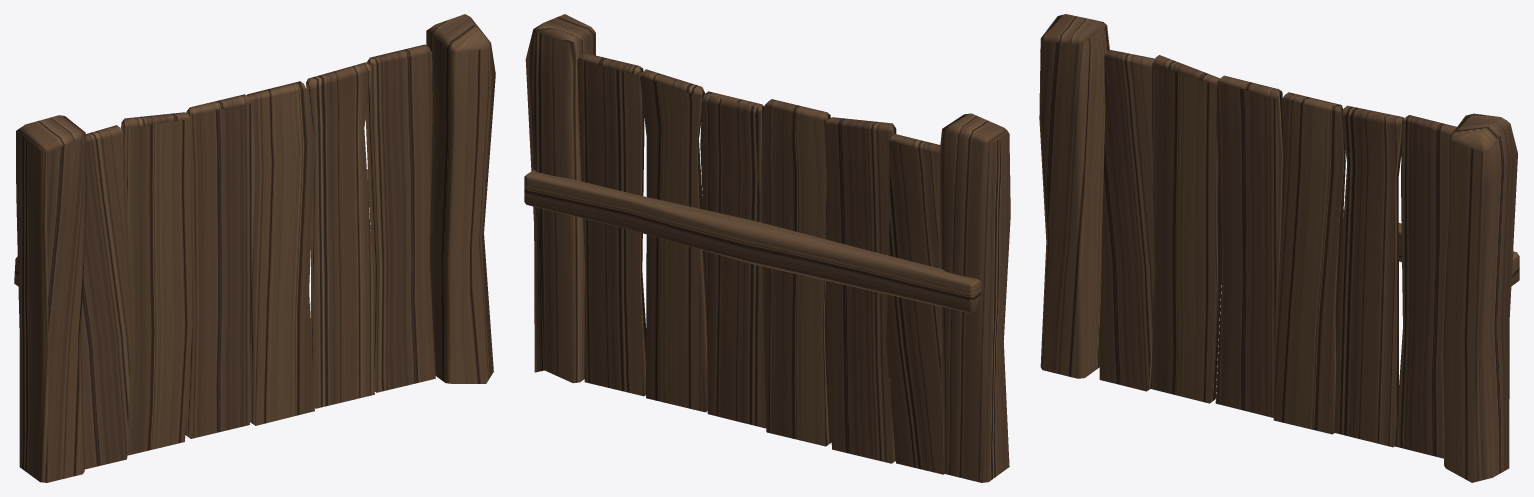
Rendered from Fence.fbx.
3 renders of one model, left to right at view 1: azimuth 30°, elevation 25°; view 2: azimuth 150°, elevation 25°; view 3: azimuth 330°, elevation 25°, orthographic.
Visible parts, largest first — view 1: Fence4; view 2: Fence4; view 3: Fence4.
Part boxes in pixels (x1,y1,x2,y2): Fence4: (14,14,495,482); Fence4: (524,14,1010,482); Fence4: (1039,14,1519,482).
Bounding box in the file's own units: 1.85 × 1.36 × 0.2703.
